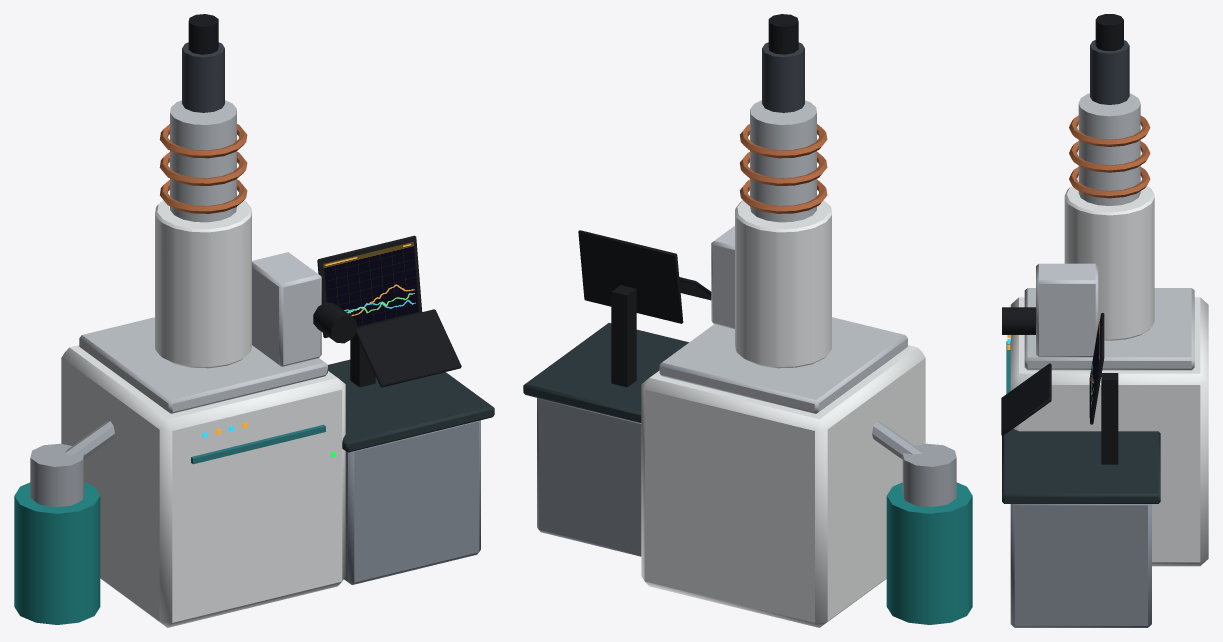
The model's file is microscope_electron_microscope.glb.
3 renders of one model, left to right at view 1: azimuth 30°, elevation 25°; view 2: azimuth 150°, elevation 25°; view 3: azimuth 270°, elevation 25°, orthographic. The views are drawn at different scales.
Visible parts, largest first — view 1: microscope_electron_microscope; view 2: microscope_electron_microscope; view 3: microscope_electron_microscope.
Part boxes in pixels (x1,y1,x2,y2): microscope_electron_microscope: [14, 14, 494, 627]; microscope_electron_microscope: [523, 14, 972, 627]; microscope_electron_microscope: [1001, 14, 1208, 627].
Size of the model in its own units: 1.57 by 1.98 by 0.733.
16 materials, 2 textured.
